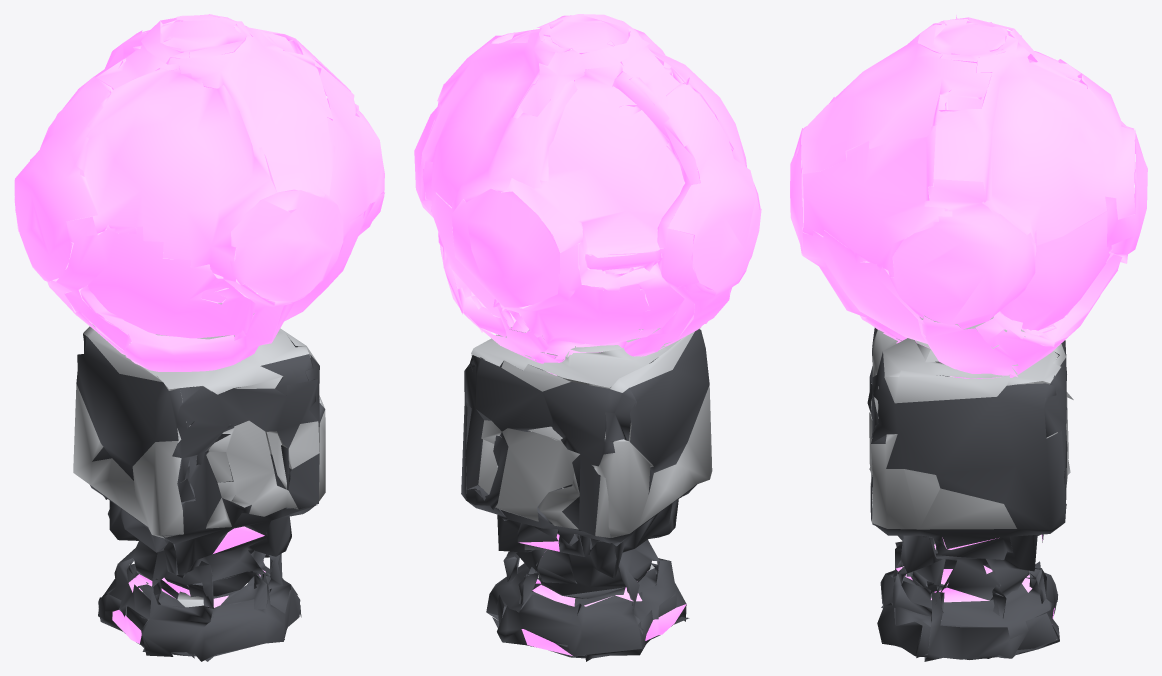
The model's file is SM_Shield_v1_slots.fbx.
3 renders of one model, left to right at view 1: azimuth 30°, elevation 25°; view 2: azimuth 150°, elevation 25°; view 3: azimuth 270°, elevation 25°, orthographic.
Parts seen in each view (by area): view 1: Emitter, SM_Shield; view 2: Emitter, SM_Shield; view 3: Emitter, SM_Shield.
Part boxes in pixels (x1,y1,x2,y2): Emitter: (14,14,384,371); SM_Shield: (73,303,325,661); Emitter: (414,14,761,375); SM_Shield: (461,327,712,661); Emitter: (790,15,1147,378); SM_Shield: (867,315,1073,661).
Size of the model in its own units: 0.5196 by 0.9421 by 0.5161.
